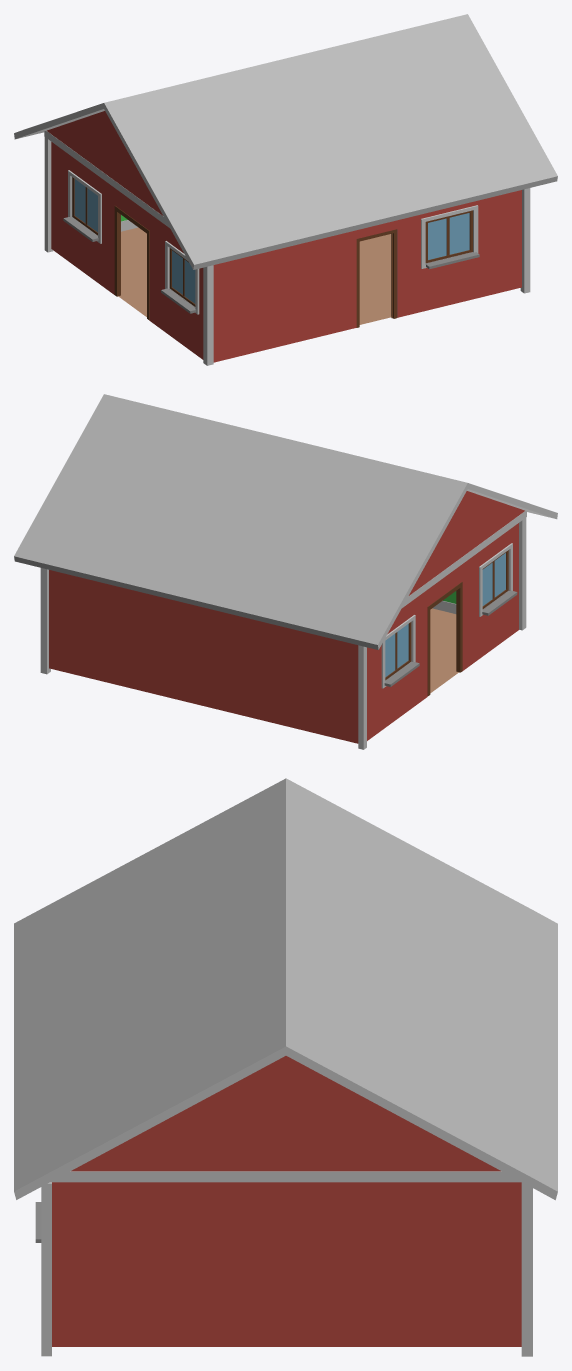
The model's file is House.fbx.
3 views of the same model, one above another, from view 1: azimuth 30°, elevation 25°; view 2: azimuth 150°, elevation 25°; view 3: azimuth 270°, elevation 25° (orthographic). The views are drawn at different scales.
Parts seen in each view (by area): view 1: Cube.066, Room, Floor, Cube.008, Cube, Cube.005, Cube.006, Cube.010, DoorFrame, Cube.069, Cube.007, Cube.009; view 2: Cube.066, Room, Cube.008, Floor, Cube.005, Cube.006, Cube.010, Cube.009, Cube.007; view 3: Cube.066, Room, Cube.008.
Part boxes in pixels (left/top/right/bottom): Cube.066: left=14, top=14, right=557, bottom=269; Room: left=51, top=142, right=521, bottom=362; Floor: left=118, top=220, right=391, bottom=324; Cube.008: left=44, top=130, right=530, bottom=365; Cube: left=425, top=210, right=479, bottom=269; Cube.005: left=161, top=248, right=196, bottom=313; Cube.006: left=63, top=177, right=98, bottom=241; Cube.010: left=114, top=206, right=149, bottom=320; DoorFrame: left=356, top=229, right=396, bottom=327; Cube.069: left=421, top=205, right=478, bottom=268; Cube.007: left=165, top=241, right=199, bottom=314; Cube.009: left=68, top=170, right=101, bottom=243; Cube.066: left=14, top=394, right=557, bottom=649; Room: left=49, top=523, right=518, bottom=743; Cube.008: left=40, top=511, right=526, bottom=749; Floor: left=430, top=601, right=458, bottom=693; Cube.005: left=482, top=550, right=517, bottom=615; Cube.006: left=384, top=622, right=419, bottom=686; Cube.010: left=427, top=582, right=462, bottom=695; Cube.009: left=381, top=615, right=415, bottom=688; Cube.007: left=479, top=543, right=512, bottom=616; Cube.066: left=14, top=778, right=557, bottom=1200; Room: left=52, top=1182, right=521, bottom=1346; Cube.008: left=41, top=1171, right=532, bottom=1356.
Bounding box in the file's own units: 897 × 505 × 769.
